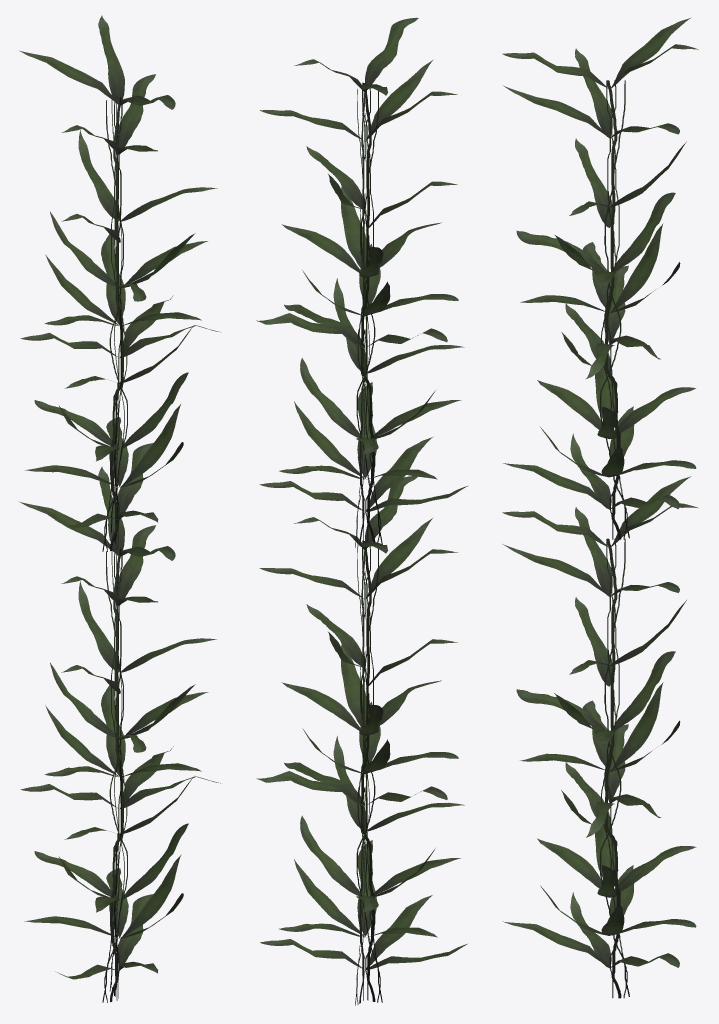
Rendered from Kelp04.dae.
The picture shows the model from 3 angles, left to right: view 1: azimuth 30°, elevation 25°; view 2: azimuth 150°, elevation 25°; view 3: azimuth 270°, elevation 25°; orthographic projection.
Visible parts, largest first — view 1: Kelp04; view 2: Kelp04; view 3: Kelp04.
Boxes of the visible parts, x1,y1,x2,y2 form: Kelp04: (19,15,220,1002); Kelp04: (256,17,468,1005); Kelp04: (502,17,698,998).
Size of the model in its own units: 43.67 by 40.43 by 209.
Materials: 1 (1 with a texture image).
